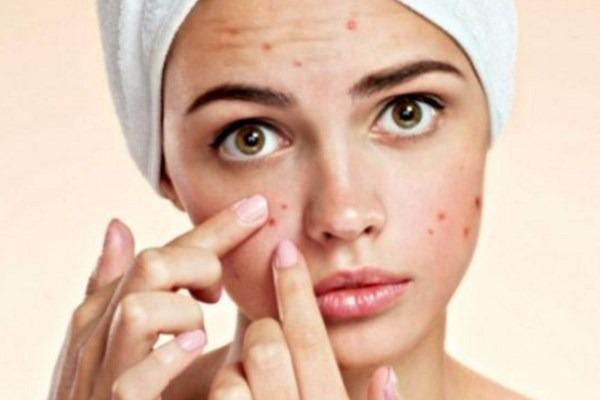Acne: (226, 17, 362, 72), (422, 194, 483, 249), (265, 196, 292, 230), (230, 269, 242, 281)
